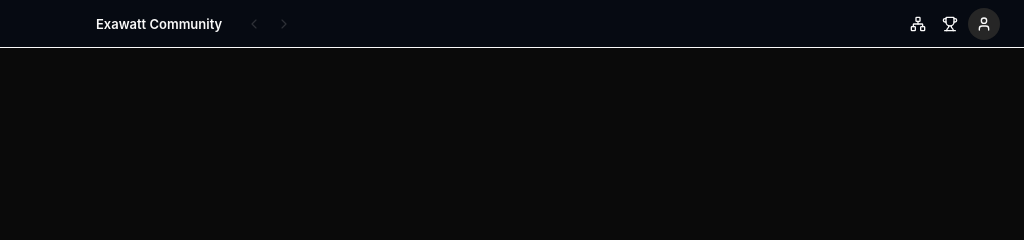
SiteHeaderNav account menu › keeps the desktop menu useful while stating what this build is not configured for
The width and height of the screenshot is (1024, 240).
Press the mouse on the button named "Account and Workspace menu": (984, 24) [968, 8, 1000, 40]
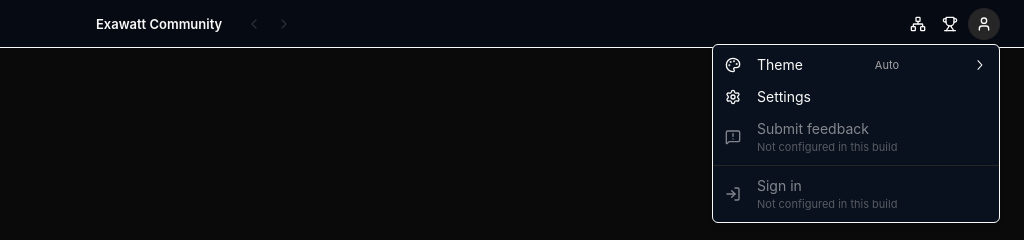
Check: the menu item "Settings" is shown, box [725, 88, 811, 105]
